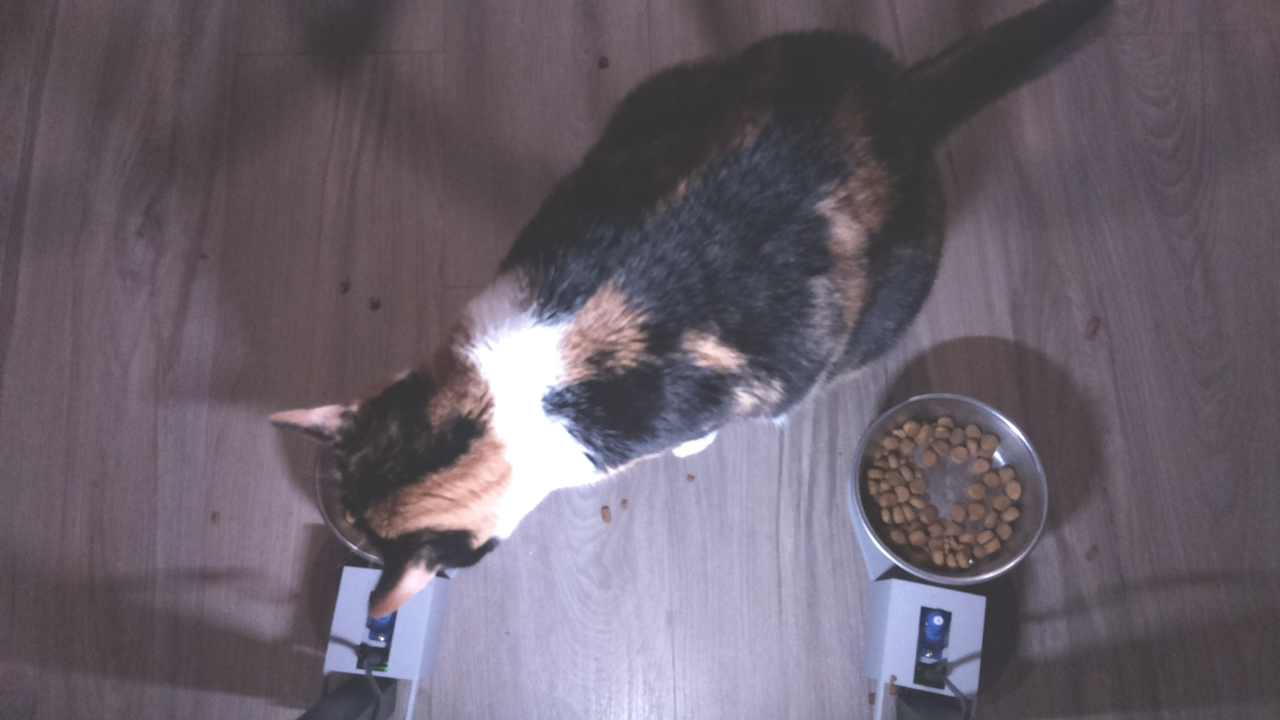bella_eating: (266, 319, 592, 616)
open_bowl: (848, 387, 1054, 587)
